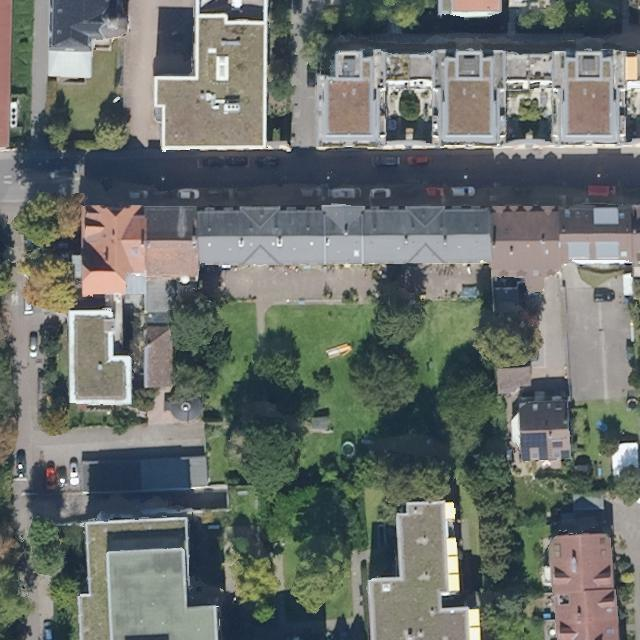PV: (519, 430, 550, 462)
